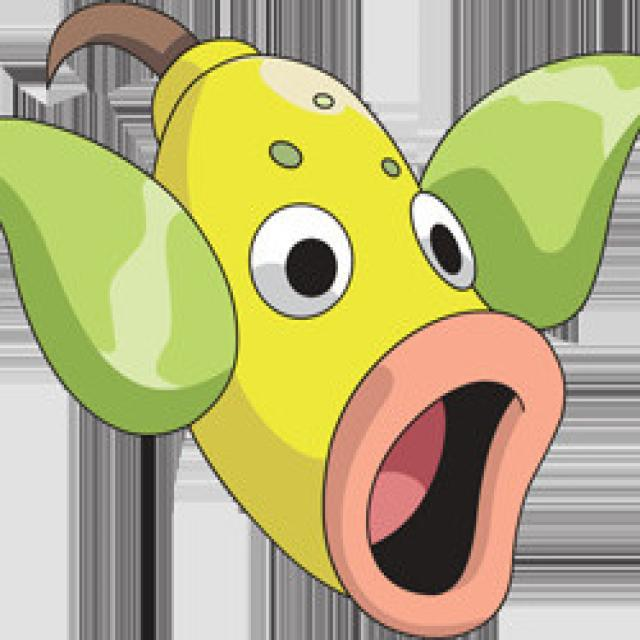Weepinbell: (144, 34, 565, 630)
